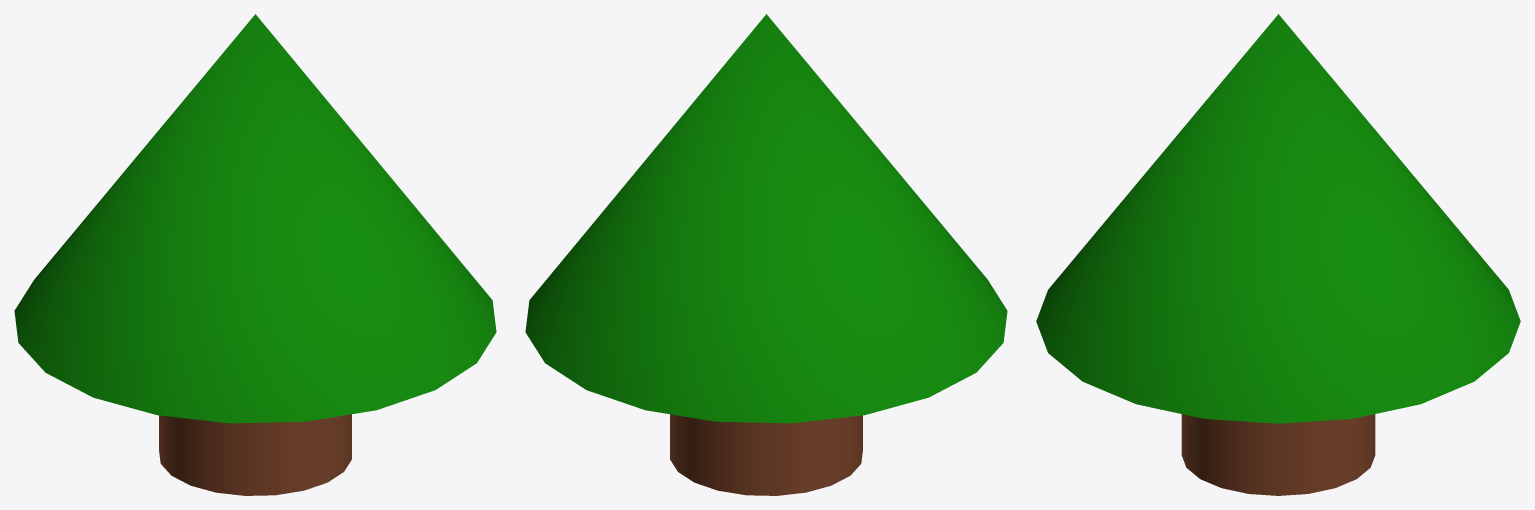
File: tree.fbx
3 views of the same model, side by side, from view 1: azimuth 30°, elevation 25°; view 2: azimuth 150°, elevation 25°; view 3: azimuth 270°, elevation 25° (orthographic).
Parts seen in each view (by area): view 1: pCone2; view 2: pCone2; view 3: pCone2.
Part boxes in pixels (x1,y1,x2,y2): pCone2: (14,14,496,495); pCone2: (525,14,1007,495); pCone2: (1036,14,1520,495).
Size of the model in its own units: 1 by 1 by 1.
2 materials, 2 textured.
